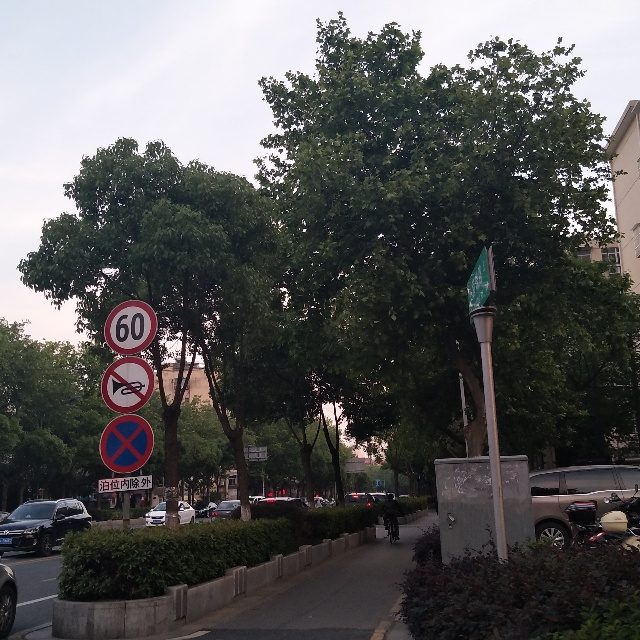nohonk: (106, 365, 151, 411)
stop: (99, 418, 154, 472)
